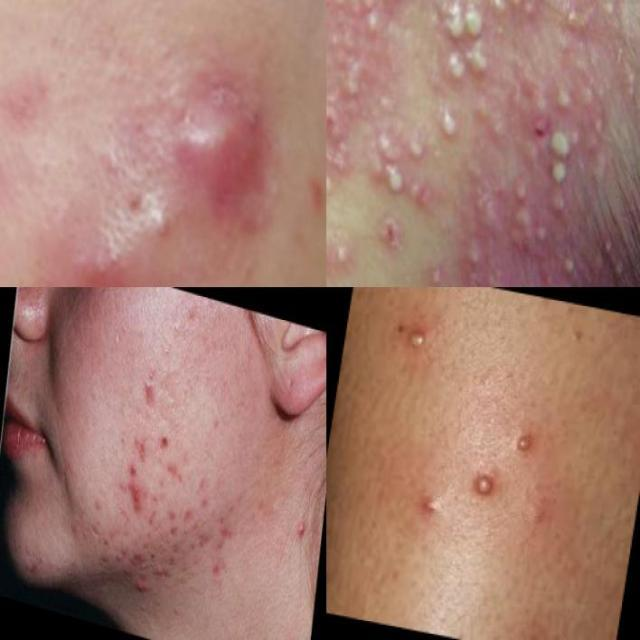Pimples: (148, 70, 278, 230), (45, 224, 180, 287), (132, 198, 215, 262), (434, 0, 495, 54), (543, 0, 603, 54), (426, 91, 474, 153), (401, 168, 448, 226), (364, 114, 406, 170), (333, 54, 374, 108), (544, 68, 583, 122), (464, 39, 502, 94), (502, 162, 542, 214), (397, 122, 436, 172), (540, 119, 578, 170), (464, 262, 536, 288), (464, 461, 504, 507), (378, 153, 414, 204), (552, 244, 594, 287), (132, 362, 167, 412), (398, 316, 436, 362), (542, 151, 578, 199), (611, 57, 640, 116), (587, 0, 635, 35), (438, 42, 474, 88), (418, 248, 460, 287), (410, 484, 446, 527), (356, 2, 390, 47), (326, 234, 359, 280), (530, 210, 562, 256), (505, 427, 541, 460), (484, 0, 532, 24), (373, 0, 435, 18), (122, 478, 148, 520), (530, 272, 594, 287), (626, 0, 640, 58), (134, 431, 152, 472), (179, 498, 199, 528), (164, 521, 182, 552), (96, 544, 114, 573), (293, 518, 309, 548)
